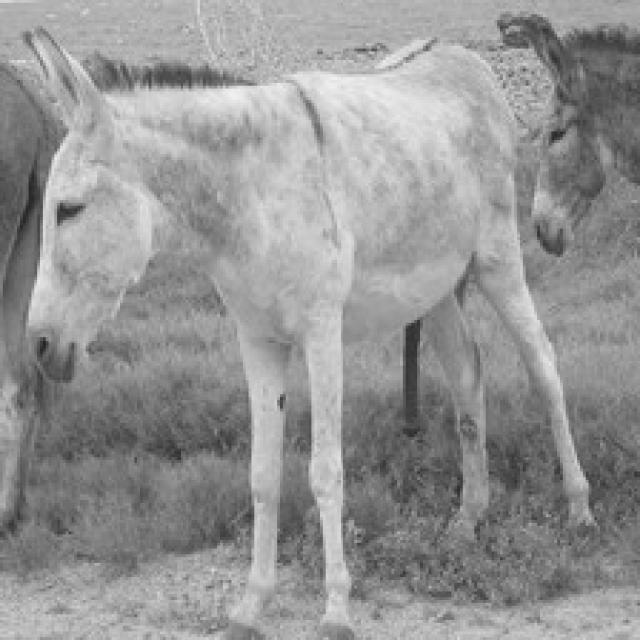Donkey: (17, 20, 597, 637), (494, 6, 637, 497), (0, 37, 63, 546)
